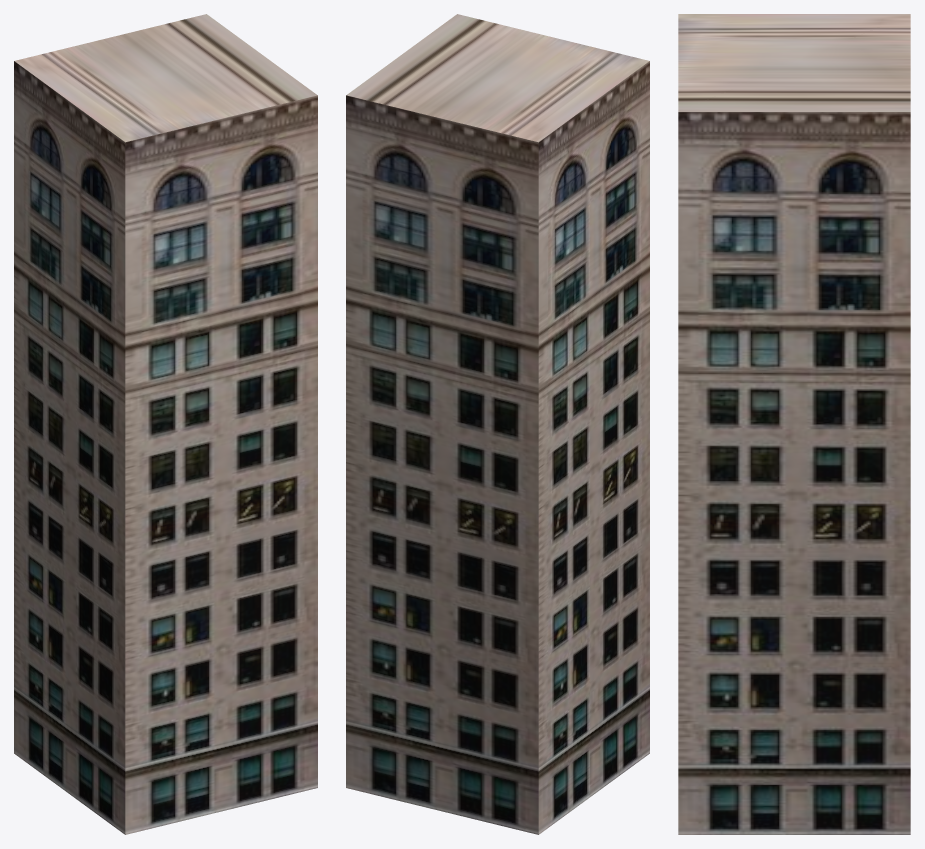
The model's file is lic_apartment_10.glb.
3 views of the same model, side by side, from view 1: azimuth 30°, elevation 25°; view 2: azimuth 150°, elevation 25°; view 3: azimuth 270°, elevation 25° (orthographic). The views are drawn at different scales.
Parts seen in each view (by area): view 1: building; view 2: building; view 3: building.
Boxes of the visible parts, x1=… form: building: x1=14, y1=14, x2=317, y2=834; building: x1=346, y1=14, x2=649, y2=834; building: x1=678, y1=14, x2=910, y2=834.
Bounding box in the file's own units: 9.89 × 34 × 9.89.
1 material, 1 textured.
